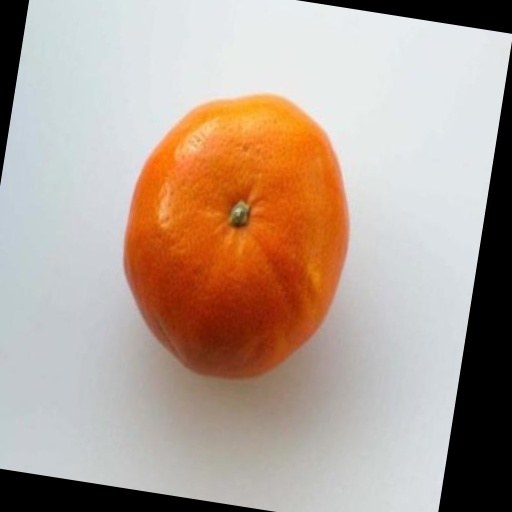fruit: (123, 95, 348, 377)
